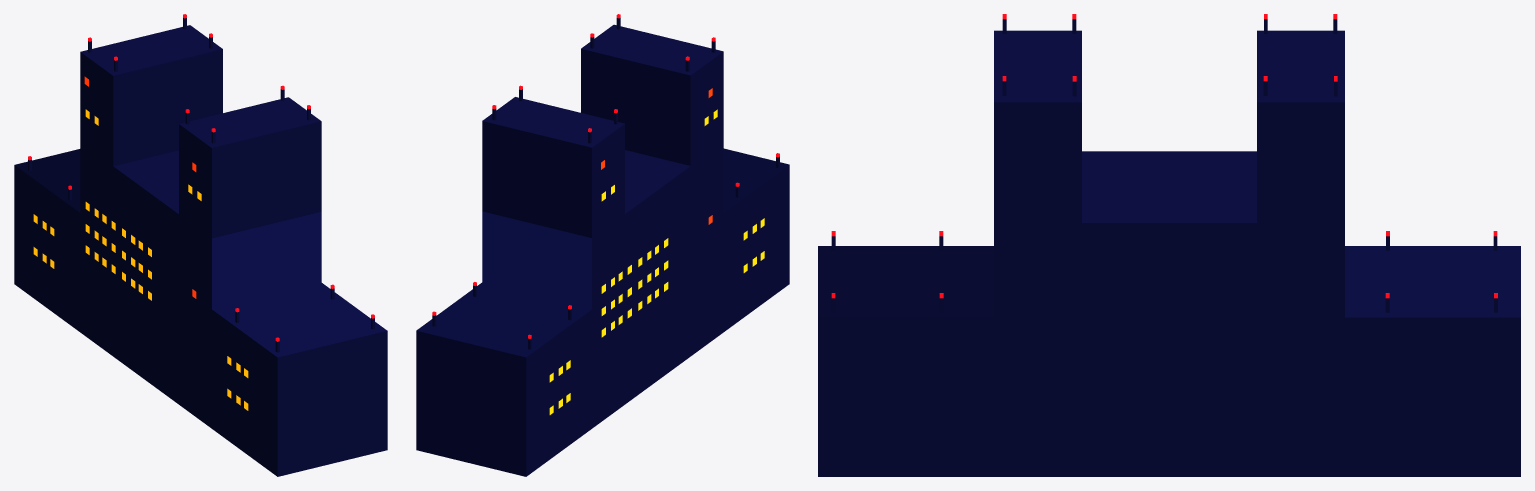
File: background_house.glb
3 views of the same model, side by side, from view 1: azimuth 30°, elevation 25°; view 2: azimuth 150°, elevation 25°; view 3: azimuth 270°, elevation 25° (orthographic). The views are drawn at different scales.
Parts seen in each view (by area): view 1: 立方体.001, 立方体; view 2: 立方体, 立方体.001; view 3: 立方体, 立方体.001.
Part boxes in pixels (x1,y1,x2,y2): 立方体.001: (146, 97, 387, 476); 立方体: (14, 25, 222, 380); 立方体: (416, 97, 657, 476); 立方体.001: (581, 24, 789, 379); 立方体: (1169, 30, 1520, 476); 立方体.001: (818, 30, 1169, 476).
Size of the model in its own units: 31.41 by 79.18 by 128.
